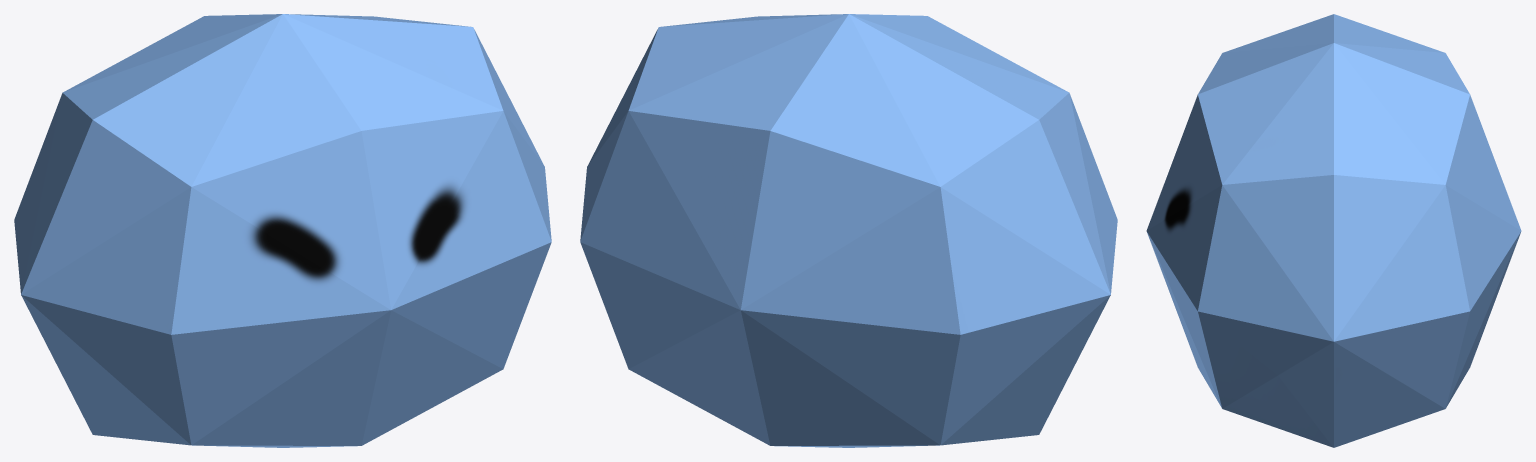
The model's file is enemy.obj.
3 renders of one model, left to right at view 1: azimuth 30°, elevation 25°; view 2: azimuth 150°, elevation 25°; view 3: azimuth 270°, elevation 25°, orthographic. The views are drawn at different scales.
Parts seen in each view (by area): view 1: Cube; view 2: Cube; view 3: Cube.
Part boxes in pixels (x1,y1,x2,y2): Cube: [14, 14, 551, 447]; Cube: [580, 14, 1117, 447]; Cube: [1146, 14, 1521, 447].
Size of the model in its own units: 2.56 by 2.03 by 1.83.
1 material, 1 textured.
